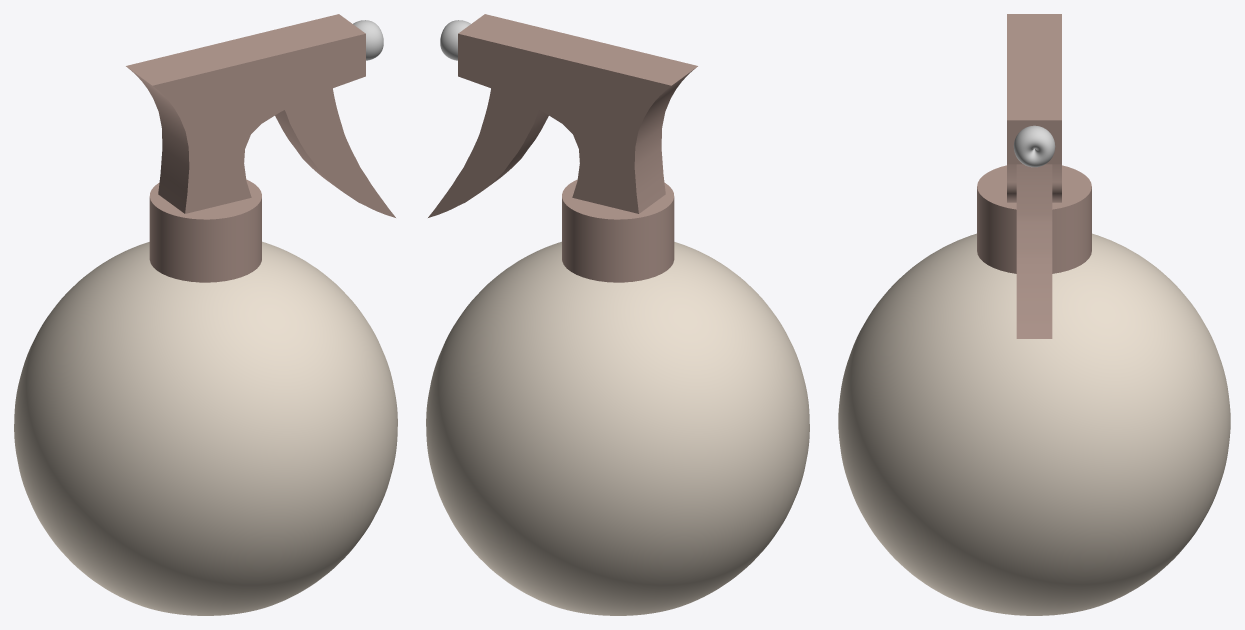
File: clear.fbx
3 views of the same model, side by side, from view 1: azimuth 30°, elevation 25°; view 2: azimuth 150°, elevation 25°; view 3: azimuth 270°, elevation 25° (orthographic). The views are drawn at different scales.
Visible parts, largest first — view 1: pasted__pSphere5, pasted__pCube12, pasted__pCylinder19, pasted__pCube13, pasted__pTorus1; view 2: pasted__pSphere5, pasted__pCube12, pasted__pCylinder19, pasted__pCube13, pasted__pTorus1; view 3: pasted__pSphere5, pasted__pCube12, pasted__pCylinder19, pasted__pCube13, pasted__pTorus1.
Part boxes in pixels (box(x1,y1,x2,y2)): pasted__pSphere5: box(14, 241, 397, 615); pasted__pCube12: box(126, 14, 365, 213); pasted__pCylinder19: box(149, 179, 261, 282); pasted__pCube13: box(275, 88, 395, 217); pasted__pTorus1: box(353, 20, 383, 60); pasted__pSphere5: box(426, 241, 809, 615); pasted__pCube12: box(458, 14, 697, 213); pasted__pCylinder19: box(562, 179, 674, 282); pasted__pCube13: box(428, 88, 548, 217); pasted__pTorus1: box(440, 20, 470, 60); pasted__pSphere5: box(838, 233, 1230, 615); pasted__pCube12: box(1007, 14, 1061, 202); pasted__pCylinder19: box(977, 165, 1091, 273); pasted__pCube13: box(1016, 164, 1052, 338); pasted__pTorus1: box(1013, 125, 1055, 167).
Bounding box in the file's own units: 11.89 × 16.78 × 11.36.
